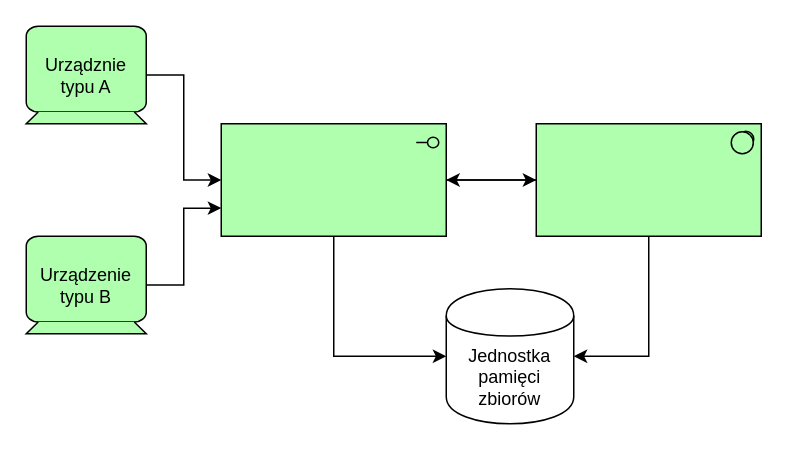
Some shapes in this 788 by 450 pixel diagram are drawn without their labels. The box of each missing label's shape, as (x1, y1, x2, y2) in pixels:
Procesor A (wejście, rejestracja danych): (220, 122, 446, 236)
Procesor B (analiza danych): (535, 122, 761, 236)
